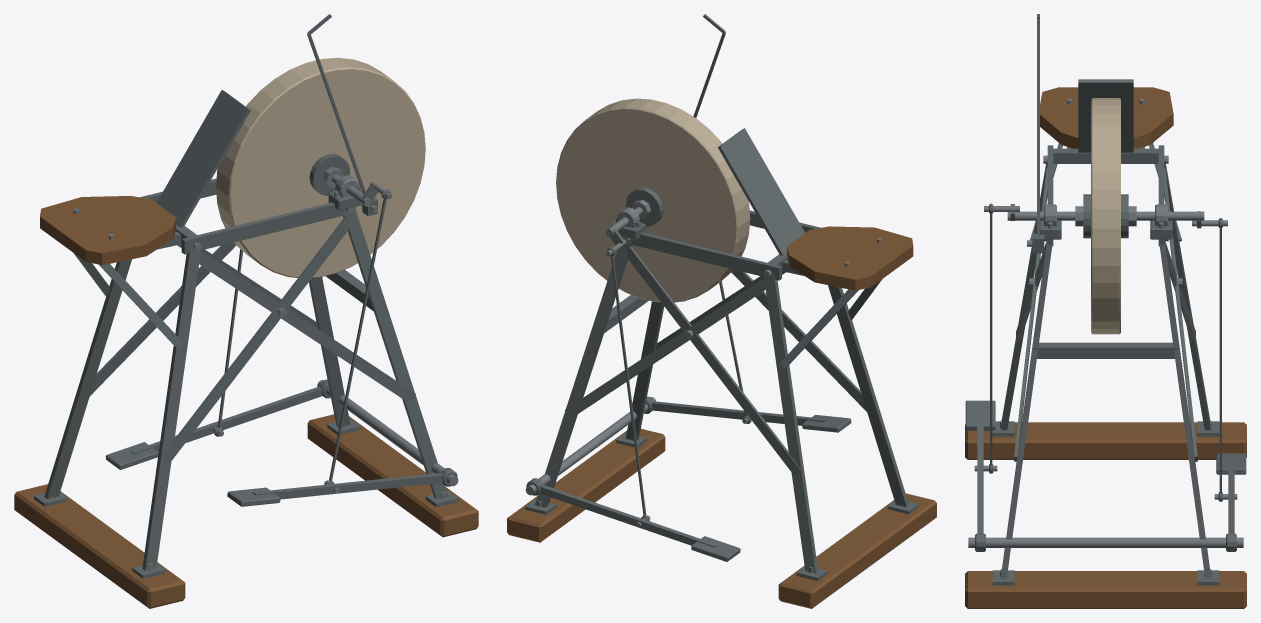
The model's file is NEW457_Treadle_Grindstone_LOD2.glb.
3 renders of one model, left to right at view 1: azimuth 30°, elevation 25°; view 2: azimuth 150°, elevation 25°; view 3: azimuth 270°, elevation 25°, orthographic. The views are drawn at different scales.
Parts seen in each view (by area): view 1: Single_Thick_Grindstone, Solid_Tapered_Seat, Wooden_Floor_Foot_0, Wooden_Floor_Foot_1, Fixed_Inclined_Plate_Purpose_Unverified, A_Frame_Leg_0_0, A_Frame_Leg_1_0, A_Frame_Leg_0_1, Cross_Brace_Rising_-1, Cross_Brace_Falling_-1, Upper_Longitudinal_Rail_-1, A_Frame_Leg_1_1 (+11 smaller); view 2: Single_Thick_Grindstone, Solid_Tapered_Seat, Wooden_Floor_Foot_0, Wooden_Floor_Foot_1, Fixed_Inclined_Plate_Purpose_Unverified, A_Frame_Leg_0_1, A_Frame_Leg_1_1, A_Frame_Leg_0_0, Cross_Brace_Rising_1, Cross_Brace_Falling_1, Upper_Longitudinal_Rail_1, Long_Treadle_Arm_1 (+10 smaller); view 3: Wooden_Floor_Foot_1, Wooden_Floor_Foot_0, Single_Thick_Grindstone, Solid_Tapered_Seat, Lower_Treadle_Pivot_Spindle, Fixed_Inclined_Plate_Purpose_Unverified, Lower_Stone_Clearance_Crossbar, A_Frame_Leg_1_0, A_Frame_Leg_1_1, A_Frame_Leg_0_1, A_Frame_Leg_0_0, Cross_Brace_Falling_1 (+14 smaller).
Part boxes in pixels (bbox=[...]): Single_Thick_Grindstone: bbox=[216, 57, 425, 277]; Solid_Tapered_Seat: bbox=[40, 196, 176, 265]; Wooden_Floor_Foot_0: bbox=[14, 484, 185, 608]; Wooden_Floor_Foot_1: bbox=[307, 414, 478, 537]; Fixed_Inclined_Plate_Purpose_Unverified: bbox=[156, 90, 250, 227]; A_Frame_Leg_0_0: bbox=[142, 245, 201, 570]; A_Frame_Leg_1_0: bbox=[343, 207, 448, 499]; A_Frame_Leg_0_1: bbox=[44, 259, 131, 498]; Cross_Brace_Rising_-1: bbox=[161, 214, 352, 464]; Cross_Brace_Falling_-1: bbox=[199, 250, 415, 403]; Upper_Longitudinal_Rail_-1: bbox=[181, 202, 355, 254]; A_Frame_Leg_1_1: bbox=[309, 277, 350, 427]; Single_Thick_Grindstone: bbox=[556, 98, 750, 302]; Solid_Tapered_Seat: bbox=[787, 226, 913, 290]; Wooden_Floor_Foot_0: bbox=[778, 493, 936, 608]; Wooden_Floor_Foot_1: bbox=[507, 428, 665, 542]; Fixed_Inclined_Plate_Purpose_Unverified: bbox=[718, 128, 804, 255]; A_Frame_Leg_0_1: bbox=[764, 272, 818, 573]; A_Frame_Leg_1_1: bbox=[535, 237, 632, 507]; A_Frame_Leg_0_0: bbox=[828, 285, 909, 507]; Cross_Brace_Rising_1: bbox=[624, 243, 800, 475]; Cross_Brace_Falling_1: bbox=[565, 277, 765, 418]; Upper_Longitudinal_Rail_1: bbox=[630, 232, 781, 280]; Long_Treadle_Arm_1: bbox=[540, 484, 717, 547]; Wooden_Floor_Foot_1: bbox=[965, 571, 1246, 608]; Wooden_Floor_Foot_0: bbox=[965, 422, 1246, 459]; Single_Thick_Grindstone: bbox=[1091, 98, 1120, 334]; Solid_Tapered_Seat: bbox=[1040, 87, 1173, 148]; Lower_Treadle_Pivot_Spindle: bbox=[968, 537, 1243, 547]; Fixed_Inclined_Plate_Purpose_Unverified: bbox=[1078, 79, 1133, 152]; Lower_Stone_Clearance_Crossbar: bbox=[1033, 342, 1178, 358]; A_Frame_Leg_1_0: bbox=[1001, 240, 1052, 578]; A_Frame_Leg_1_1: bbox=[1159, 240, 1210, 578]; A_Frame_Leg_0_1: bbox=[1164, 162, 1210, 430]; A_Frame_Leg_0_0: bbox=[1001, 162, 1047, 430]; Cross_Brace_Falling_1: bbox=[1164, 166, 1197, 461].
Bounding box in the file's own units: 0.8872 × 1.23 × 0.5842.
